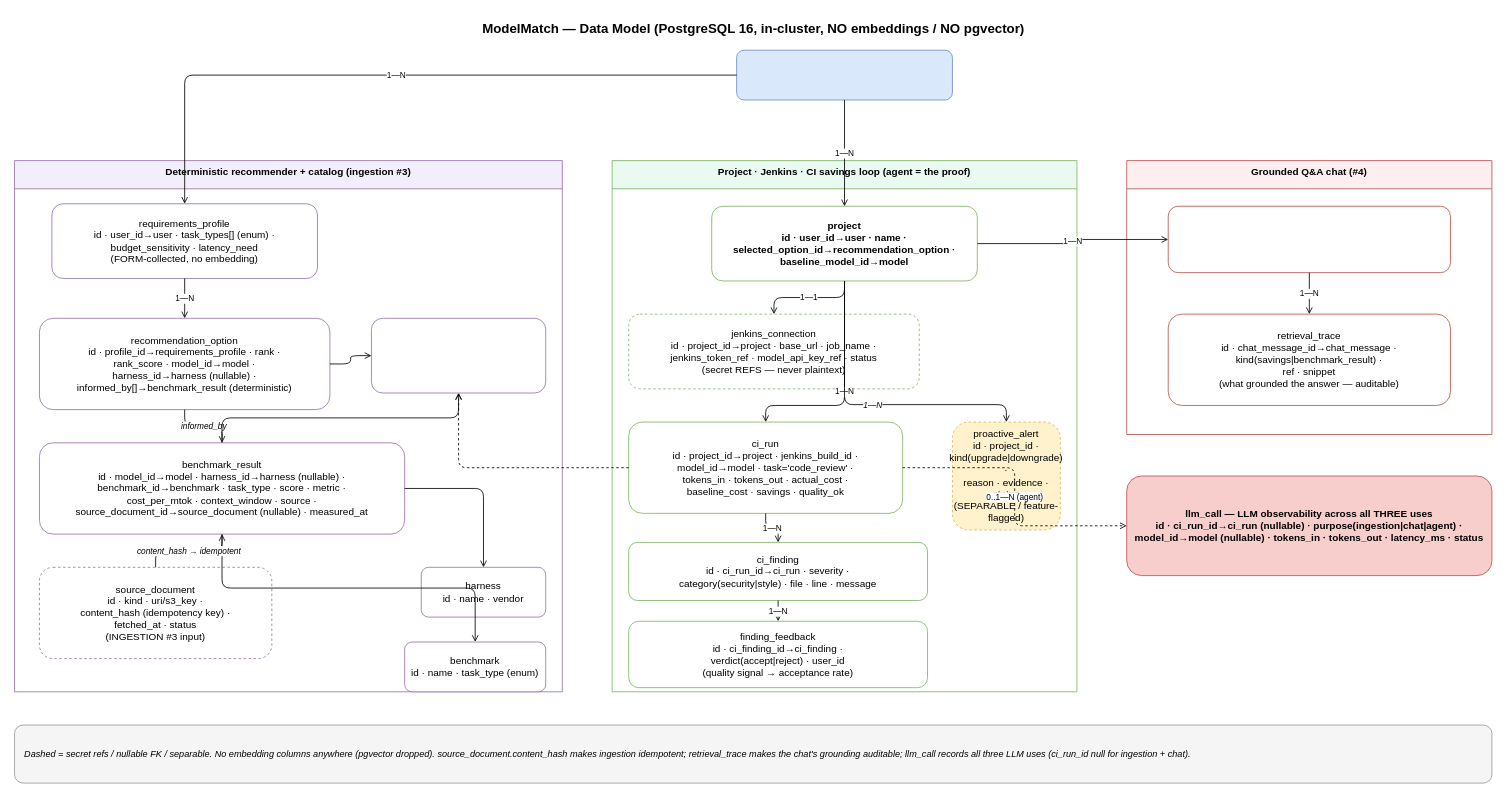
The diagram is 1506 pixels wide and 798 high, and some of its shapes have lost their labels. Here are the shapes that lost their labels. From the top down, the centre of each, then its label:
At point (844, 74): "user id · email · password_hash".
At point (1308, 239): "chat_message id · project_id→project · role(user|assistant) · text · created_at".
At point (458, 355): "model id · name · vendor · price_per_mtok · data_policy(trains|private)".
